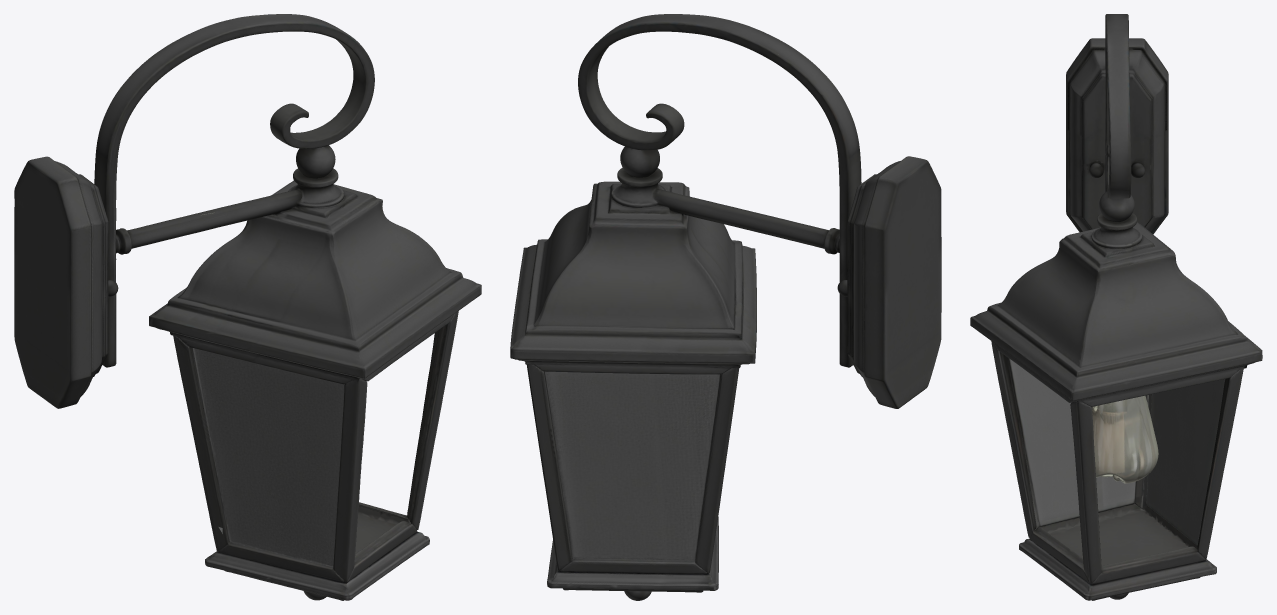
The model's file is walllantern.glb.
3 views of the same model, side by side, from view 1: azimuth 30°, elevation 25°; view 2: azimuth 150°, elevation 25°; view 3: azimuth 270°, elevation 25° (orthographic). The views are drawn at different scales.
Visible parts, largest first — view 1: tripo_node_d0acc25a-cbff-4f93-b70c-04f4e6ec9c09; view 2: tripo_node_d0acc25a-cbff-4f93-b70c-04f4e6ec9c09; view 3: tripo_node_d0acc25a-cbff-4f93-b70c-04f4e6ec9c09.
Boxes of the visible parts, box(x1,y1,x2,y2) form: tripo_node_d0acc25a-cbff-4f93-b70c-04f4e6ec9c09: box(14, 14, 481, 600); tripo_node_d0acc25a-cbff-4f93-b70c-04f4e6ec9c09: box(510, 14, 941, 600); tripo_node_d0acc25a-cbff-4f93-b70c-04f4e6ec9c09: box(970, 14, 1262, 600).
Bounding box in the file's own units: 0.3641 × 0.5 × 0.2493.
Materials: 1 (1 with a texture image).
